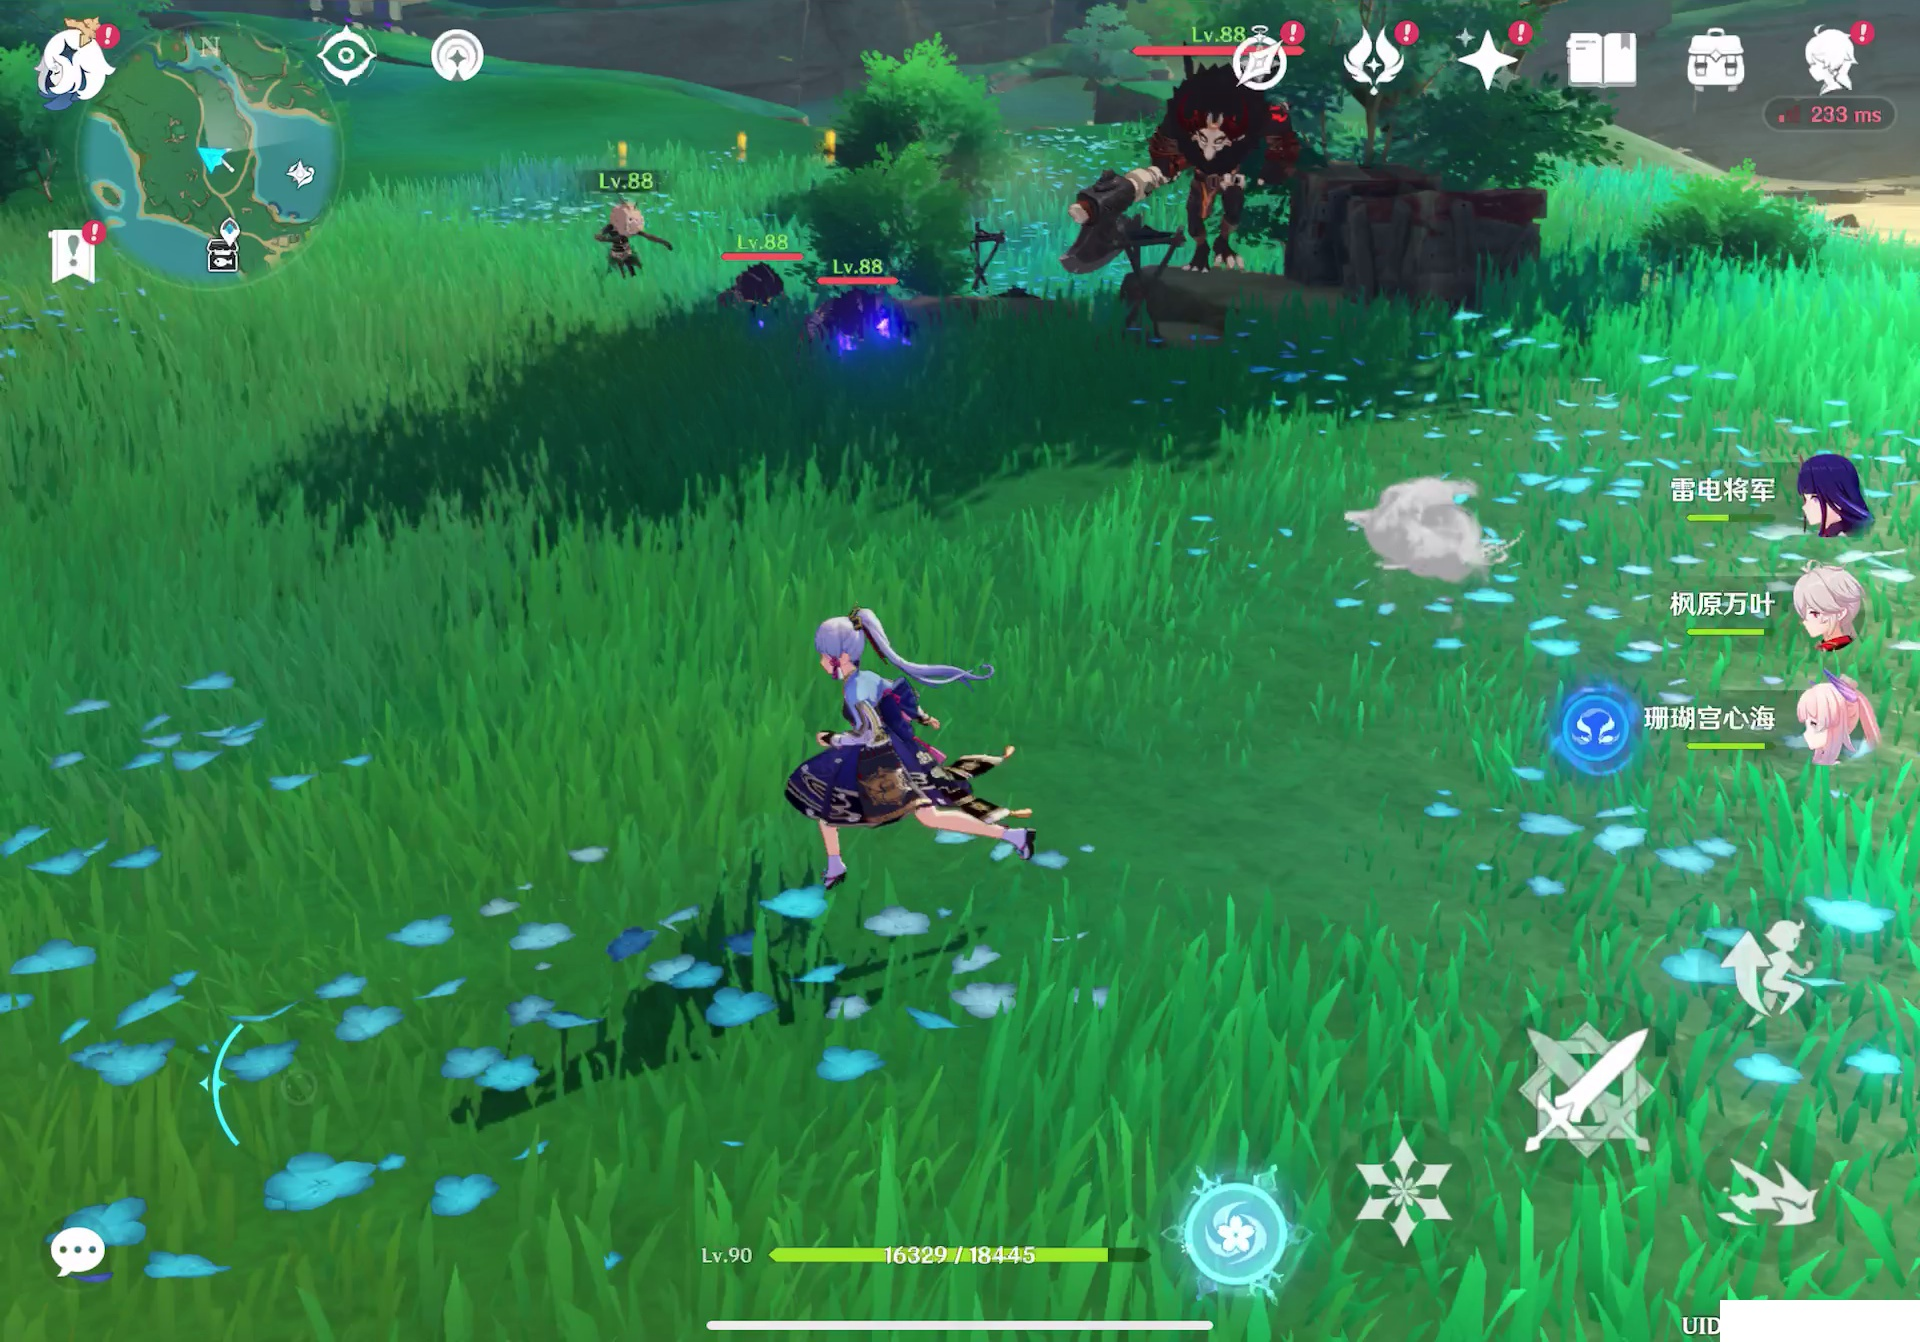NTR: (1106, 60, 1293, 277)
丘丘人: (818, 286, 913, 363), (712, 255, 805, 328), (601, 207, 657, 283)
神里绫龟: (785, 597, 1031, 883)
